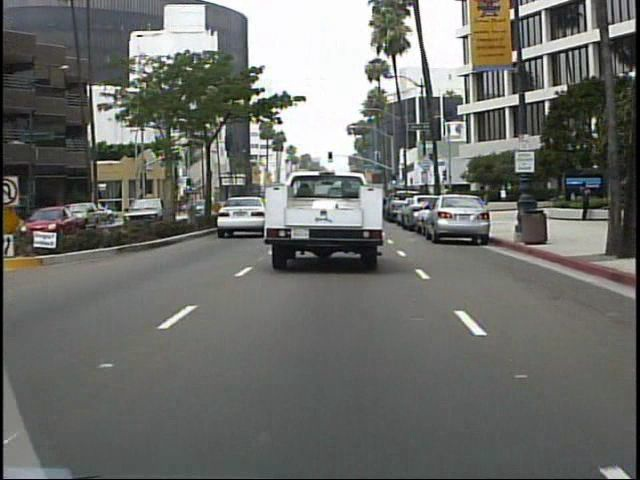person: (580, 178, 596, 225)
